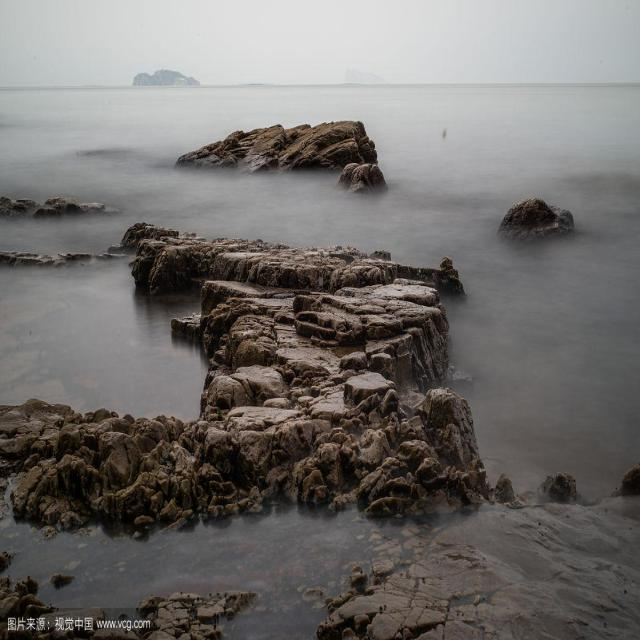reef: (93, 183, 265, 341), (210, 118, 407, 218), (483, 155, 593, 245)
